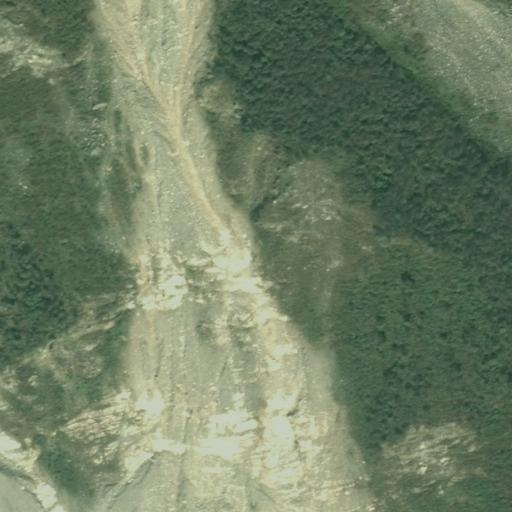landslide: (74, 3, 377, 512)
